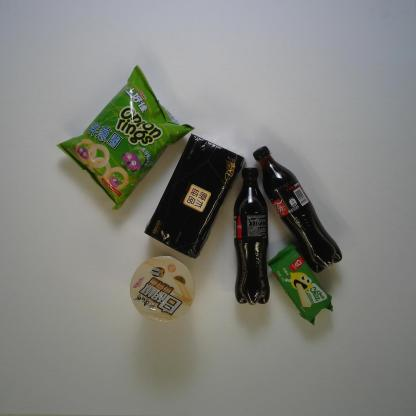Dessert: (267, 243, 334, 327)
Drink: (251, 144, 342, 273), (233, 166, 271, 306)
Instant Noodles: (130, 255, 196, 322)
Puffed Food: (56, 64, 196, 210)
Tissue: (144, 132, 246, 258)
